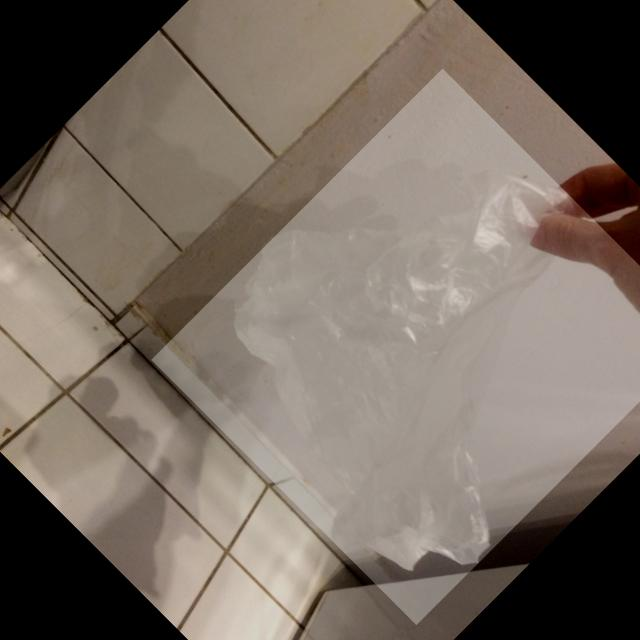Plastic film: (232, 173, 574, 570)
